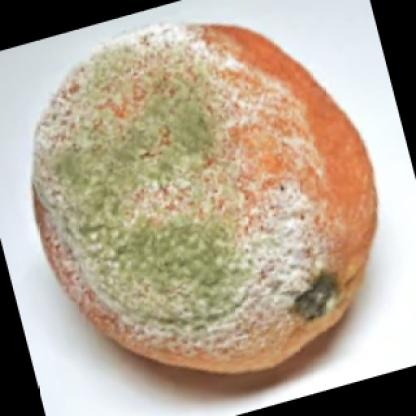rotten: (37, 25, 377, 379)
